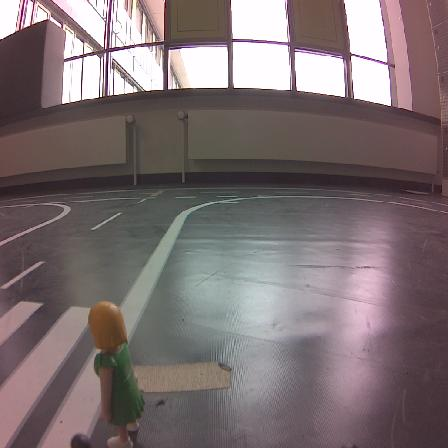PERSON: (88, 301, 143, 447)
